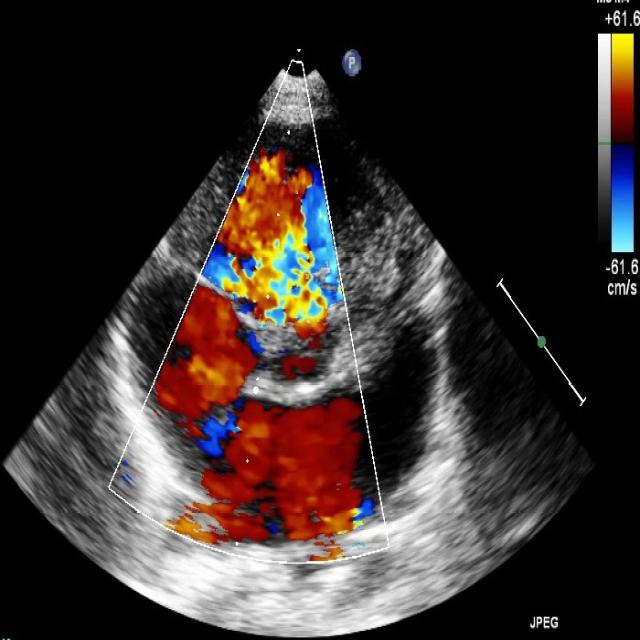VSDType2: (224, 230, 329, 374)
